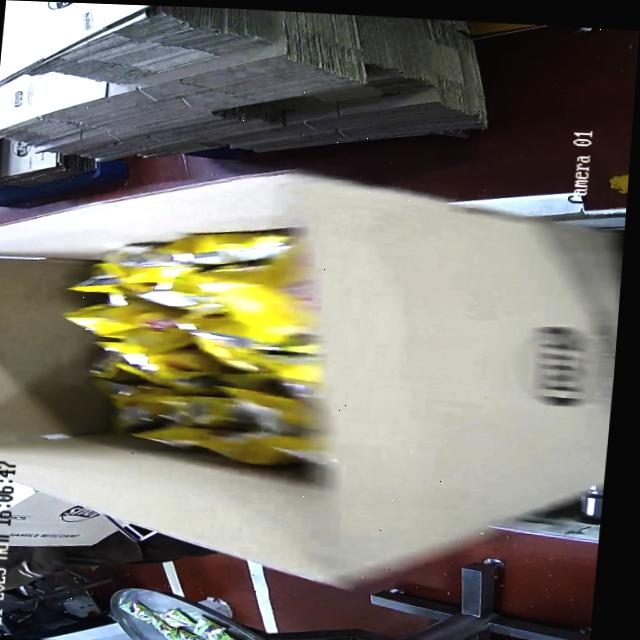SALTED: (64, 212, 318, 464)
